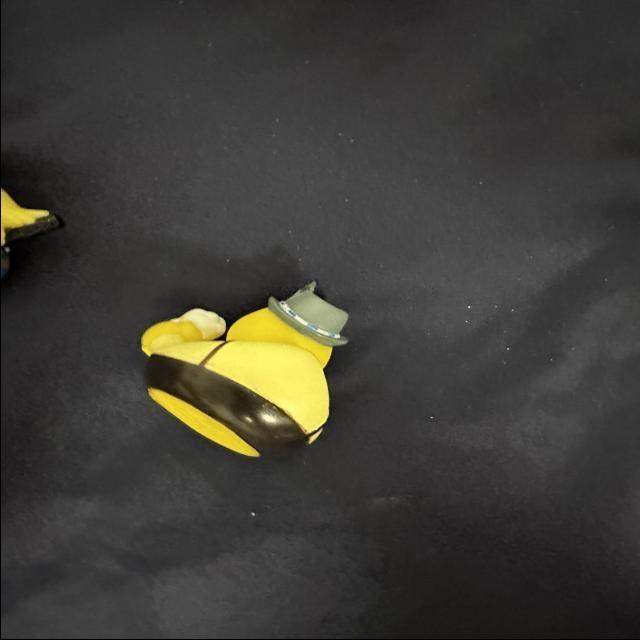rubber-duck: (140, 282, 346, 454)
